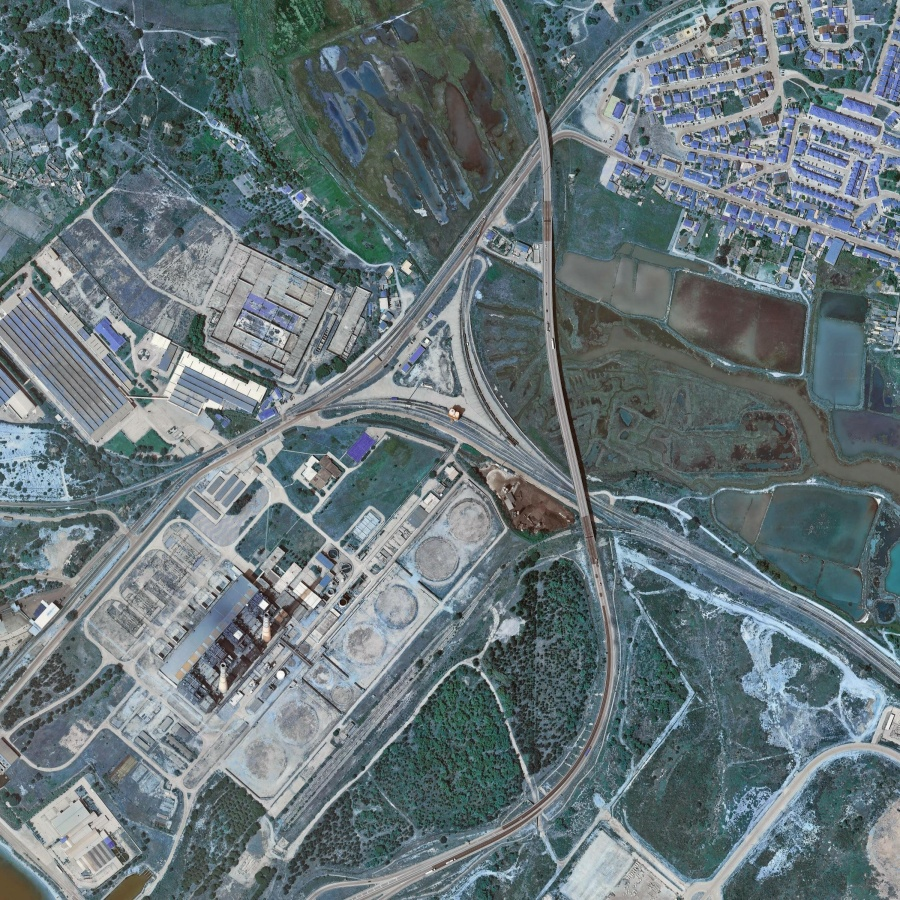PowerPlant: (119, 446, 494, 786)
